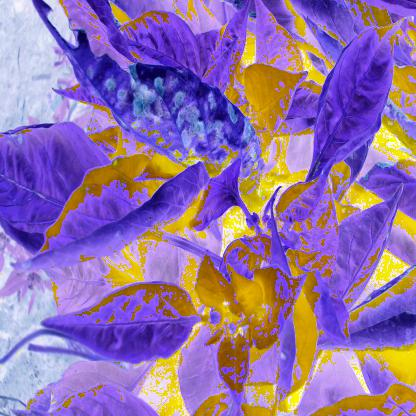bell pepper leaf spot: (36, 2, 266, 206)
